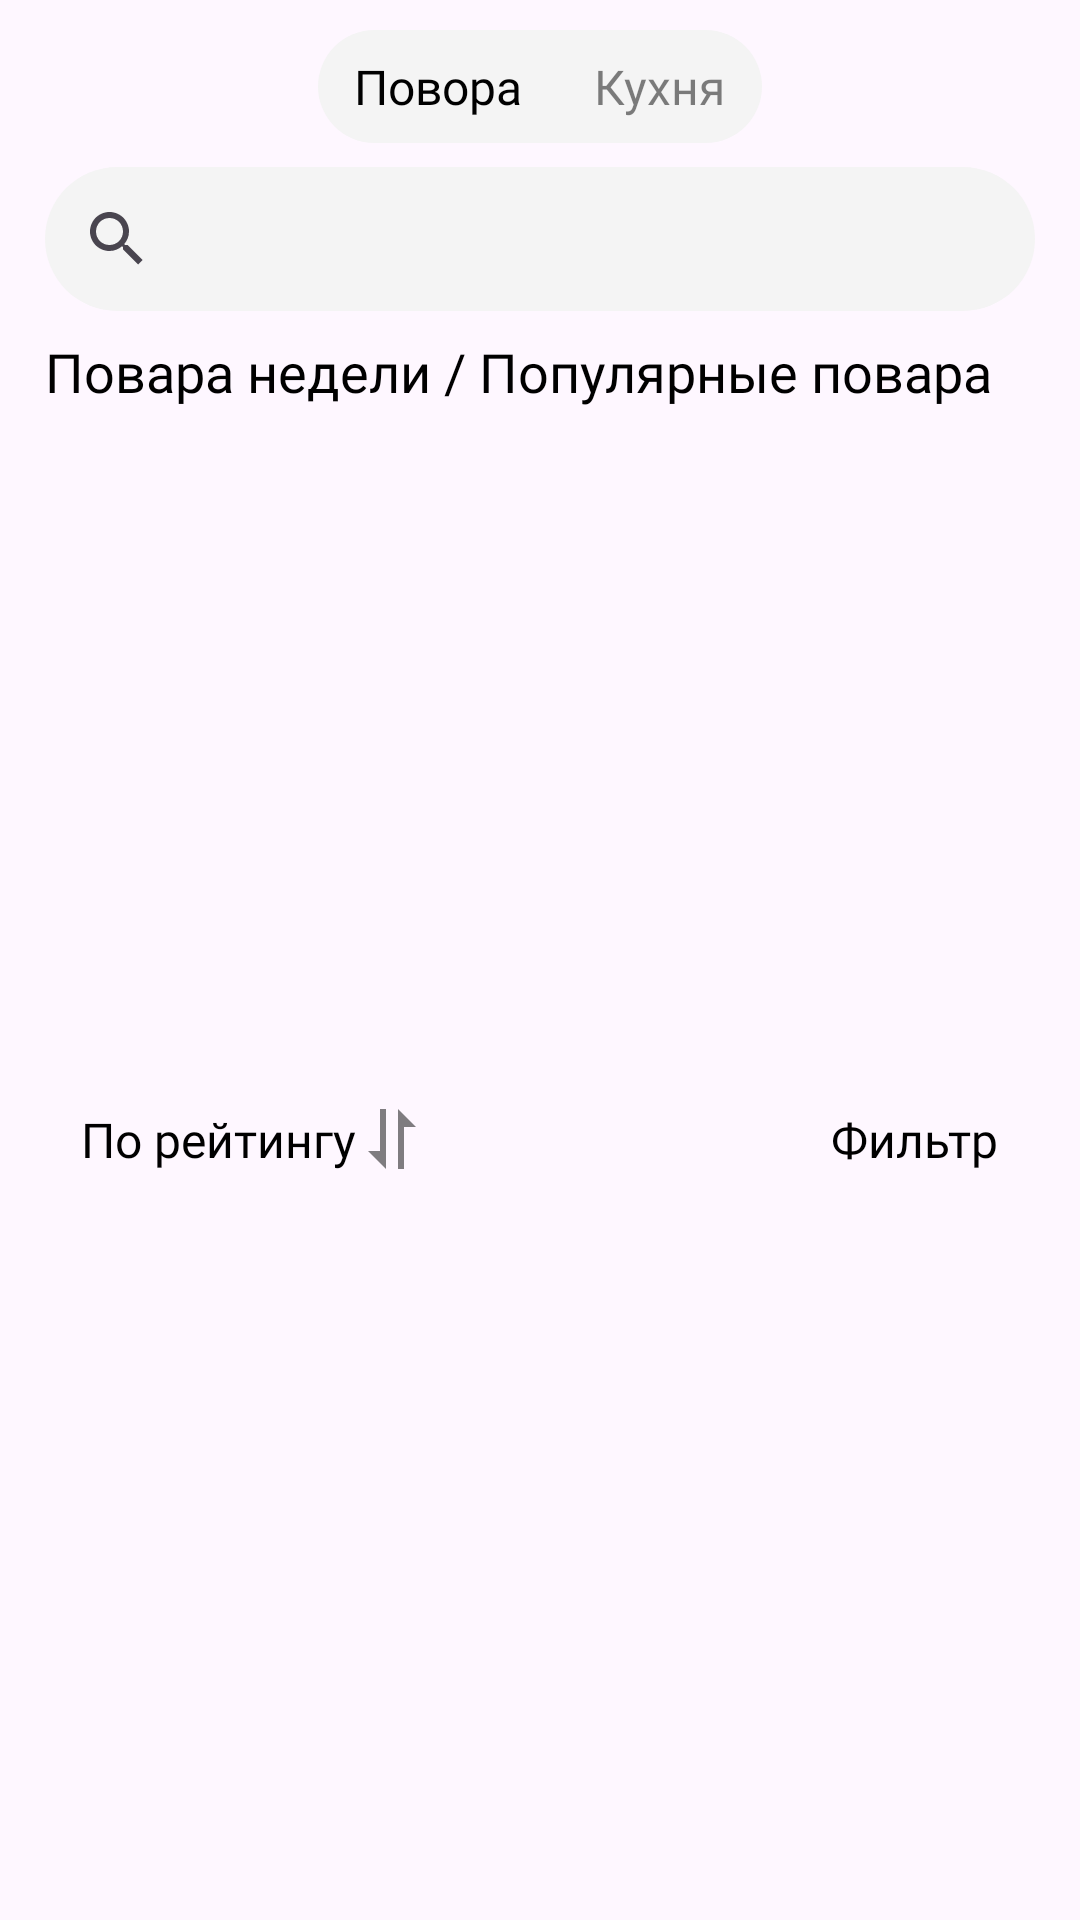

Where to tap for icons on this 1080px×1920px app screen, as (x=x, y=y):
sort: (x=392, y=1139)
